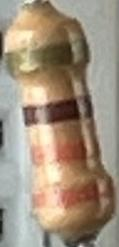Brown: (21, 95, 93, 128)
Orange: (30, 175, 113, 211), (29, 136, 102, 169)
Side-Gold: (6, 35, 92, 80)
